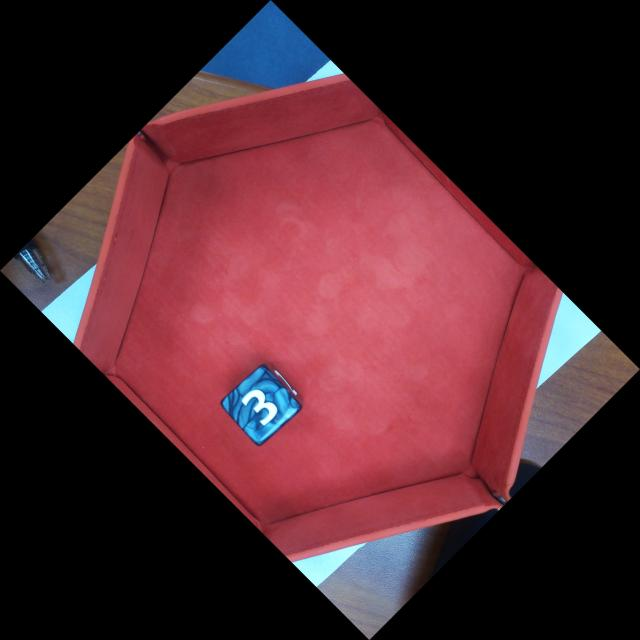dice: (218, 363, 304, 448)
